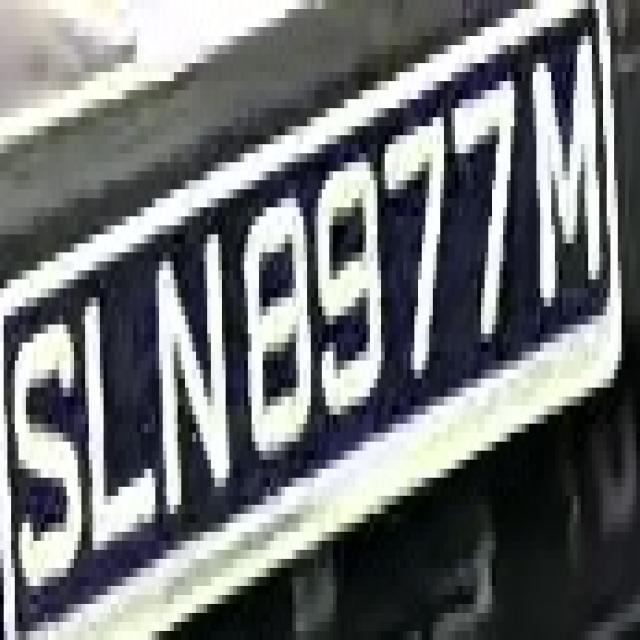7: (374, 99, 458, 406), (455, 45, 533, 370)
8: (233, 162, 315, 460)
9: (303, 171, 385, 442)
L: (78, 243, 162, 577)
M: (522, 27, 606, 325)
N: (137, 207, 229, 532)
S: (8, 297, 82, 595)
